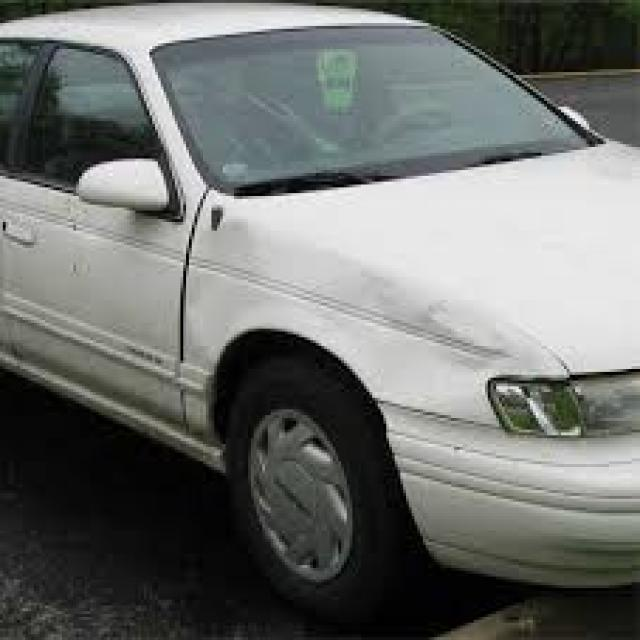moderate: (404, 292, 518, 370)
